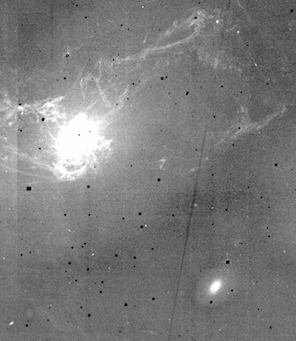Halpha: (4, 5, 261, 122), (139, 97, 286, 189), (2, 131, 58, 201), (51, 156, 113, 189)
